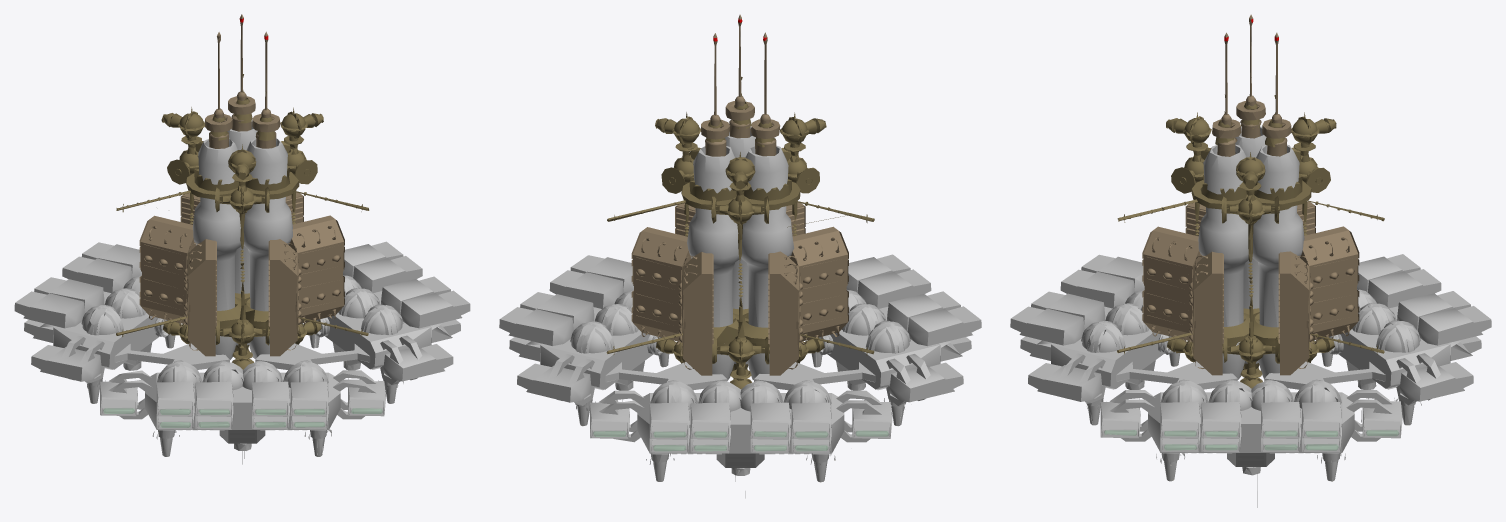
Rendered from drift.dae.
3 renders of one model, left to right at view 1: azimuth 30°, elevation 25°; view 2: azimuth 150°, elevation 25°; view 3: azimuth 270°, elevation 25°, orthographic. The views are drawn at different scales.
Parts seen in each view (by area): view 1: Default; view 2: Default; view 3: Default.
Boxes of the visible parts, x1,y1,x2,y2 form: Default: (14, 14, 470, 464); Default: (499, 14, 981, 498); Default: (1010, 14, 1491, 507).
Size of the model in its own units: 669 by 758 by 727.
